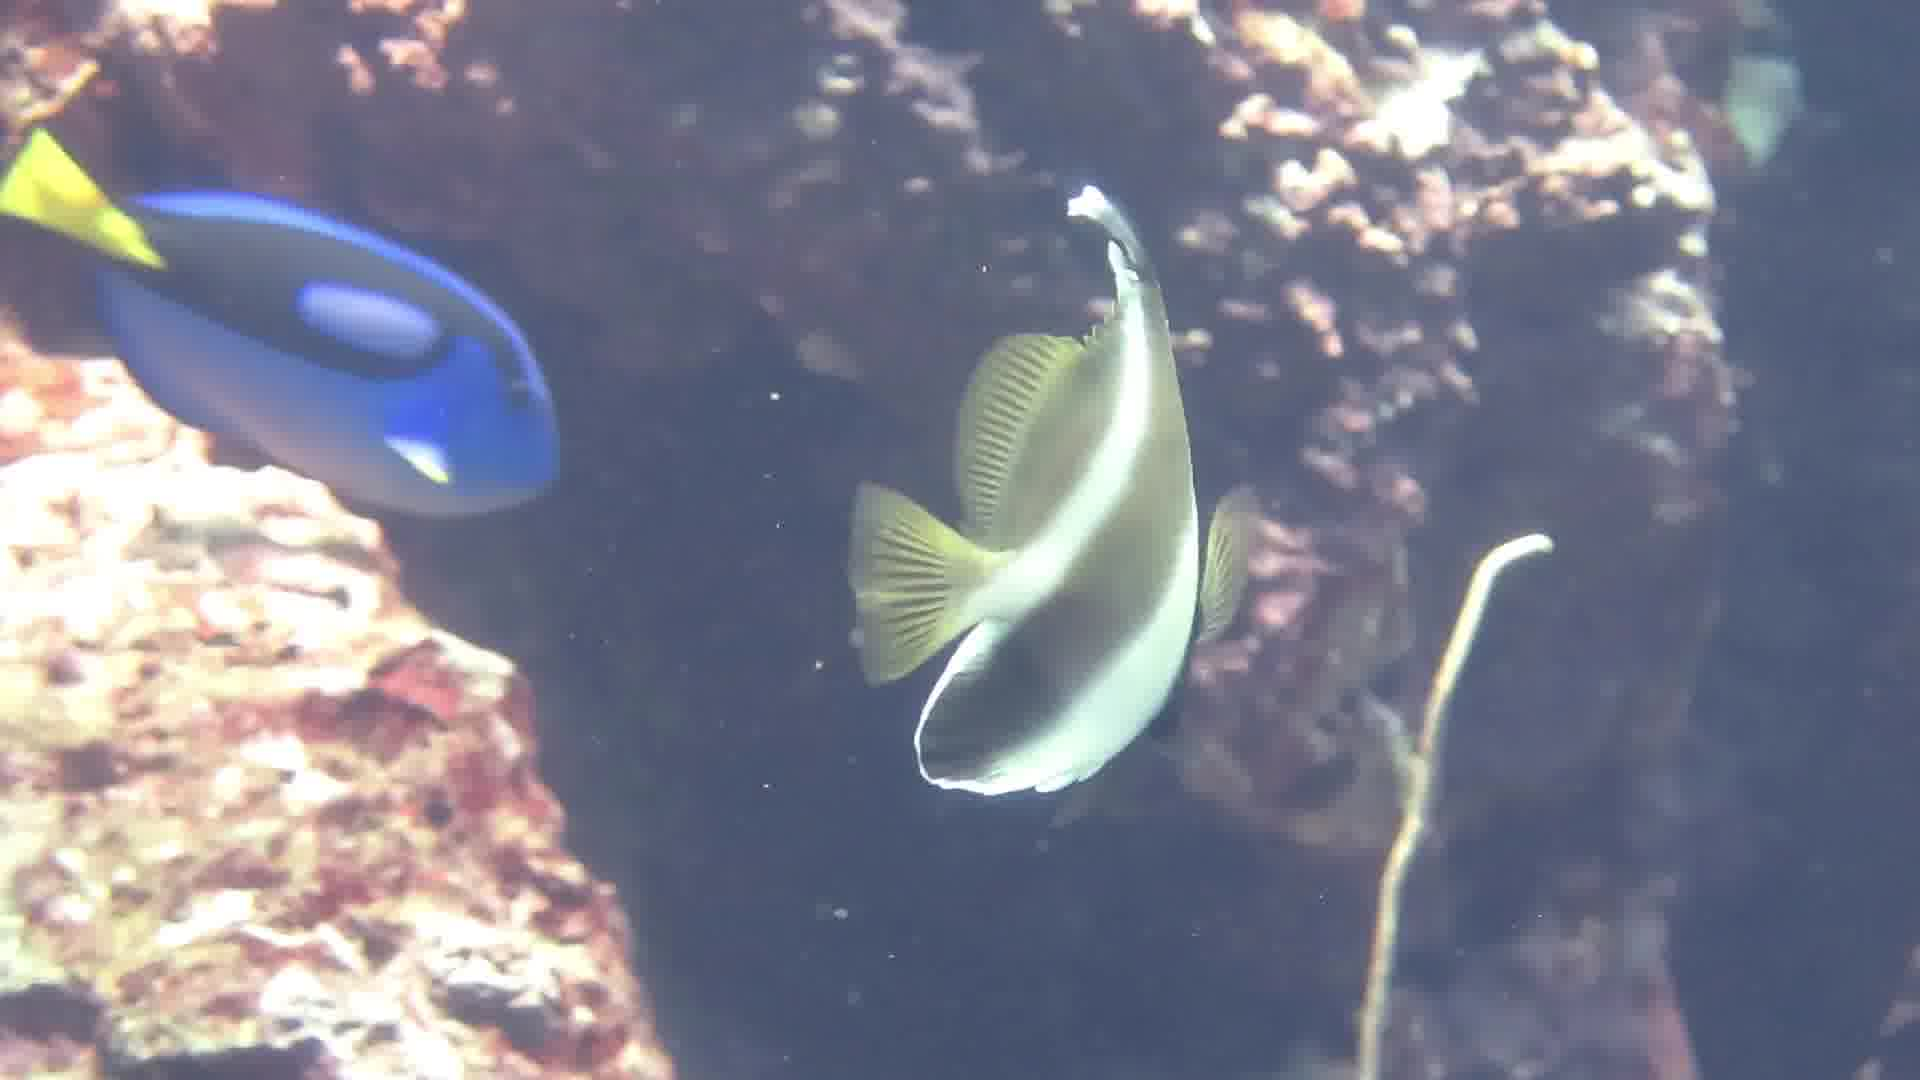Heniochus chrysostomus: (720, 116, 1474, 901)
